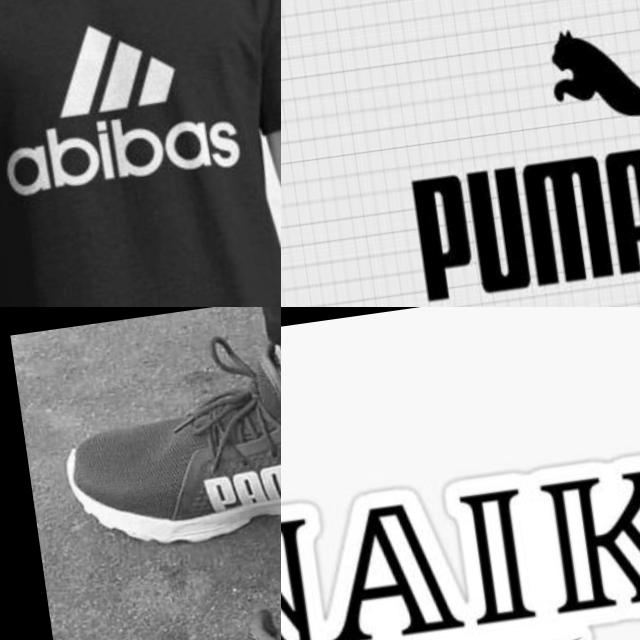ADIDAS_fake: (0, 0, 261, 224), (0, 103, 253, 210), (35, 6, 200, 130)
NIKE_fake: (281, 357, 640, 640)
PUMA_original: (380, 0, 640, 307)
